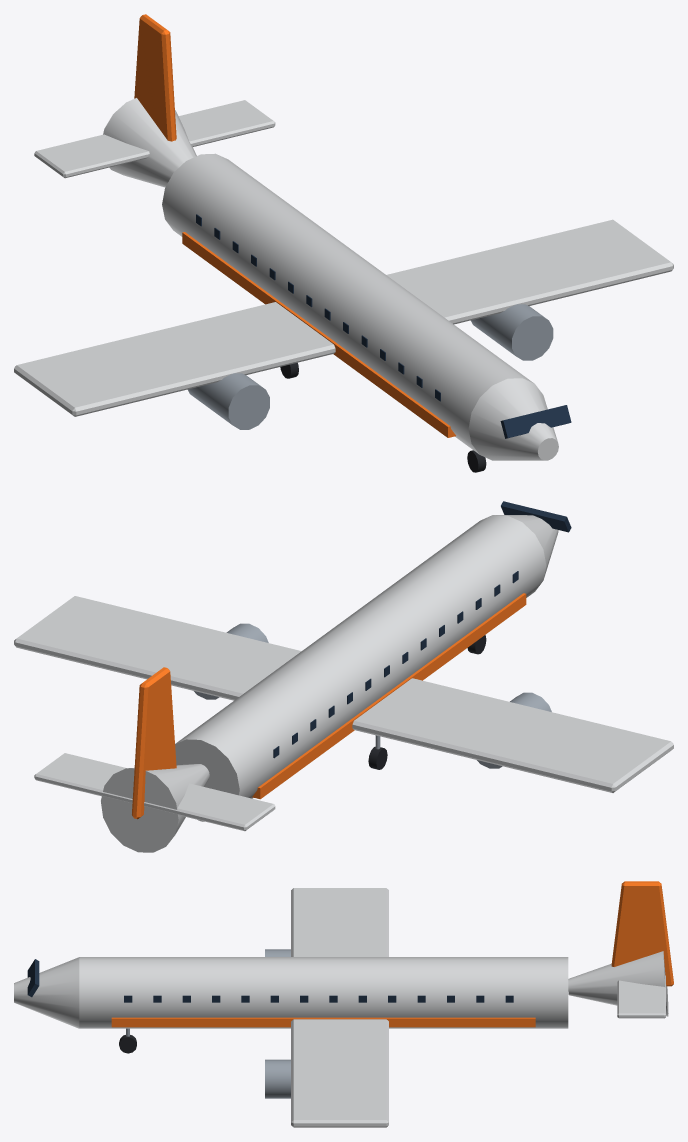
File: airplane.glb
3 views of the same model, one above another, from view 1: azimuth 30°, elevation 25°; view 2: azimuth 150°, elevation 25°; view 3: azimuth 270°, elevation 25° (orthographic). The views are drawn at different scales.
Visible parts, largest first — view 1: body; view 2: body; view 3: body.
Boxes of the visible parts, left/top/right/bottom form: body: left=14, top=14, right=673, bottom=472; body: left=14, top=501, right=673, bottom=852; body: left=14, top=881, right=673, bottom=1127.
Bounding box in the file's own units: 34 × 11.5 × 40.48.
